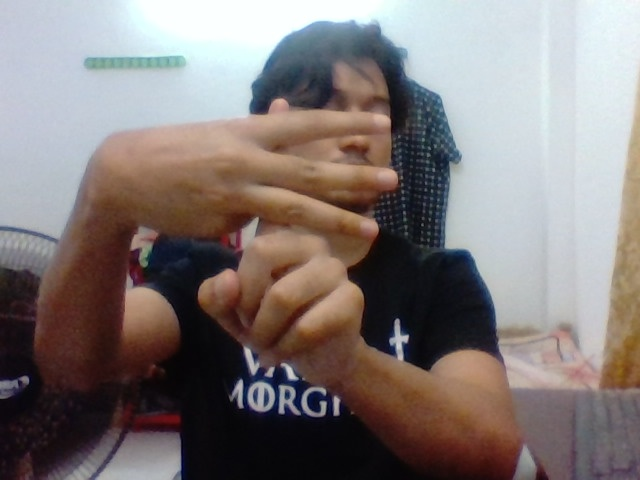E: (187, 97, 410, 345)
